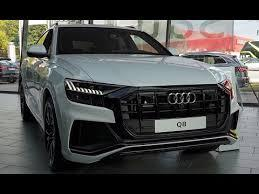non-ambulance: (19, 25, 237, 168), (182, 52, 248, 87)
